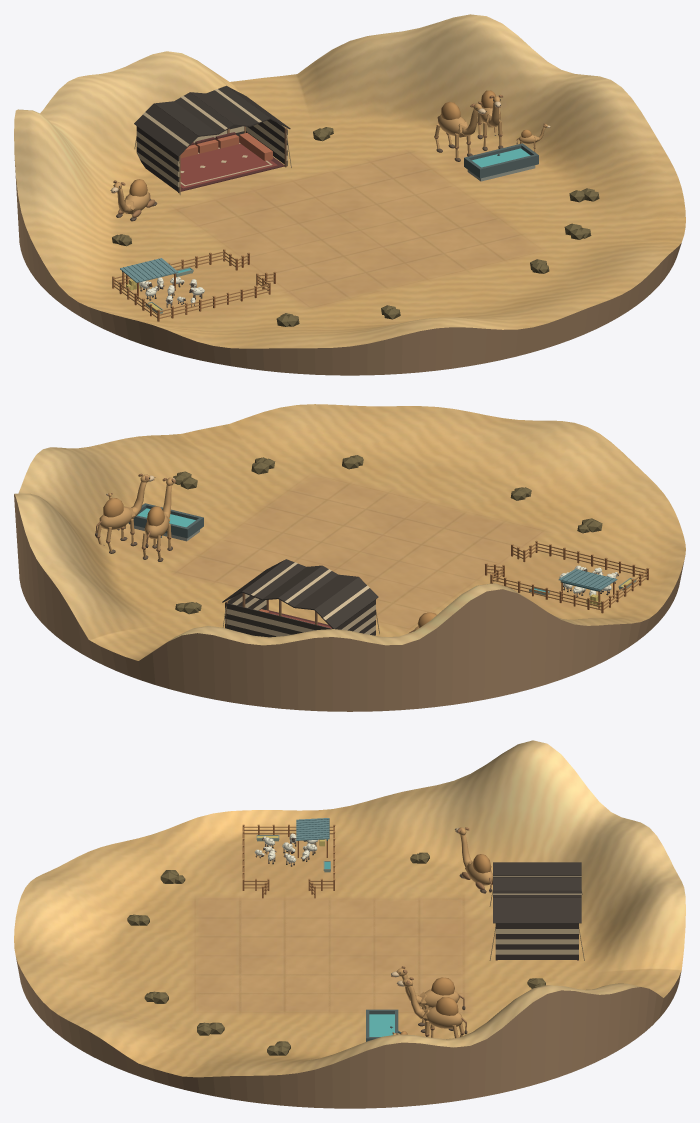
3 views of the same model, one above another, from view 1: azimuth 30°, elevation 25°; view 2: azimuth 150°, elevation 25°; view 3: azimuth 270°, elevation 25° (orthographic).
Visible parts, largest first — view 1: Ground, Plinth, tent.002, sheep_pen.002, trough.002, camel_standing.002, camel_kneeling.002, camel_standing.004; view 2: Ground, Plinth, tent.002, sheep_pen.002, camel_standing.004, camel_standing.002, trough.002; view 3: Ground, Plinth, tent.002, sheep_pen.002, camel_standing.004, camel_standing.002, camel_kneeling.002, trough.002.
Boxes of the visible parts, bbox=[...] form: Ground: bbox=[14, 14, 685, 348]; Plinth: bbox=[14, 160, 681, 375]; tent.002: bbox=[134, 85, 291, 195]; sheep_pen.002: bbox=[112, 249, 276, 321]; trough.002: bbox=[464, 143, 538, 181]; camel_standing.002: bbox=[434, 101, 486, 161]; camel_kneeling.002: bbox=[110, 179, 157, 221]; camel_standing.004: bbox=[477, 90, 503, 150]; Ground: bbox=[14, 404, 685, 660]; Plinth: bbox=[14, 494, 684, 711]; tent.002: bbox=[222, 559, 379, 637]; sheep_pen.002: bbox=[485, 540, 649, 613]; camel_standing.004: bbox=[95, 473, 155, 553]; camel_standing.002: bbox=[141, 477, 175, 561]; trough.002: bbox=[128, 503, 203, 541]; Ground: bbox=[14, 740, 685, 1077]; Plinth: bbox=[16, 958, 681, 1108]; tent.002: bbox=[489, 862, 584, 960]; sheep_pen.002: bbox=[242, 818, 335, 898]; camel_standing.004: bbox=[397, 977, 467, 1038]; camel_standing.002: bbox=[391, 966, 465, 1032]; camel_kneeling.002: bbox=[455, 827, 492, 893]; trough.002: bbox=[366, 1009, 400, 1041].
Size of the model in its own units: 33 by 5.97 by 33.
Materials: 9 (1 with a texture image).
